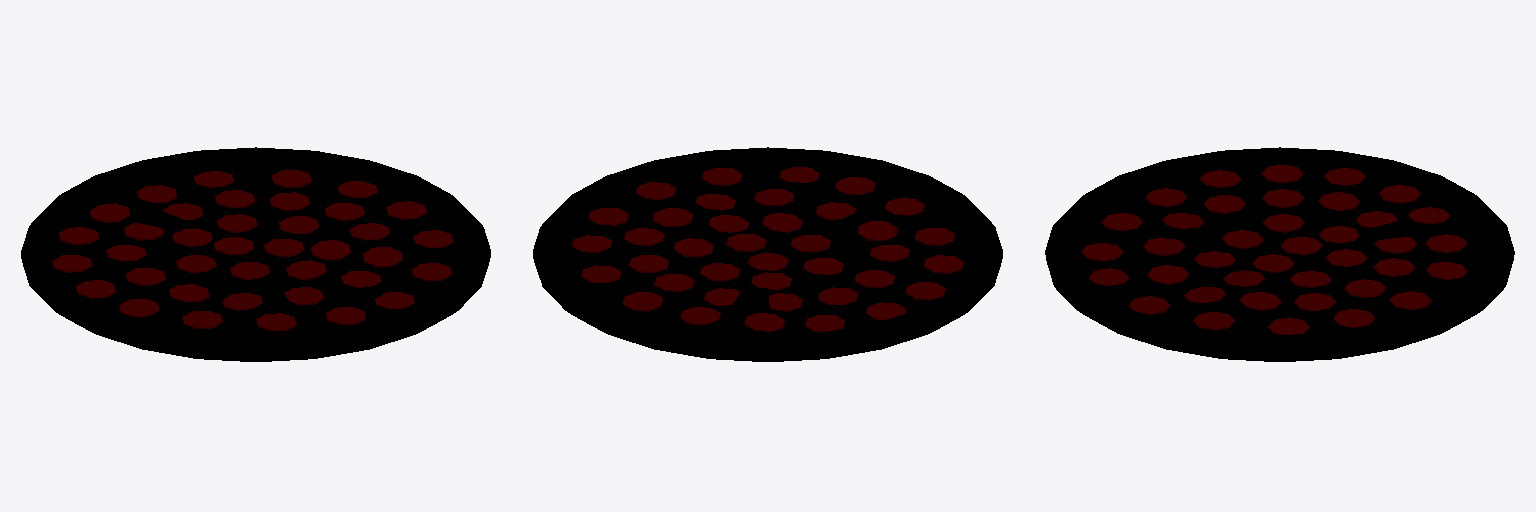
The model's file is pizza.obj.
The picture shows the model from 3 angles: view 1: azimuth 30°, elevation 25°; view 2: azimuth 150°, elevation 25°; view 3: azimuth 270°, elevation 25°; orthographic projection.
Visible parts, largest first — view 1: pizza.001; view 2: pizza.001; view 3: pizza.001.
Part boxes in pixels (left/top/right/bottom): pizza.001: left=21, top=147, right=490, bottom=361; pizza.001: left=533, top=147, right=1002, bottom=361; pizza.001: left=1045, top=147, right=1514, bottom=361.
Bounding box in the file's own units: 0.375 × 0.0214 × 0.375.